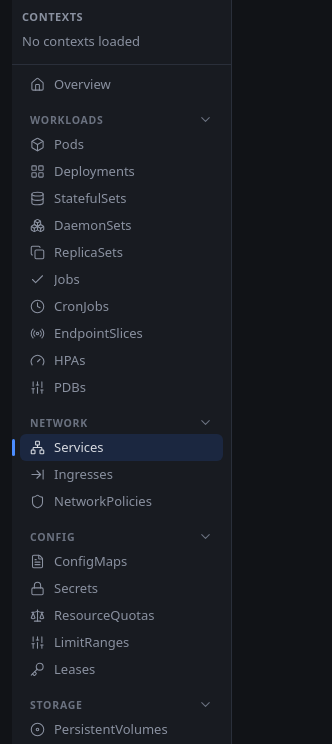
Test: Sidebar group collapse › a revealed group collapsed while active, then expanded by the user, is persisted
Click the button "Network" at (122, 423), box [12,411,231,434]
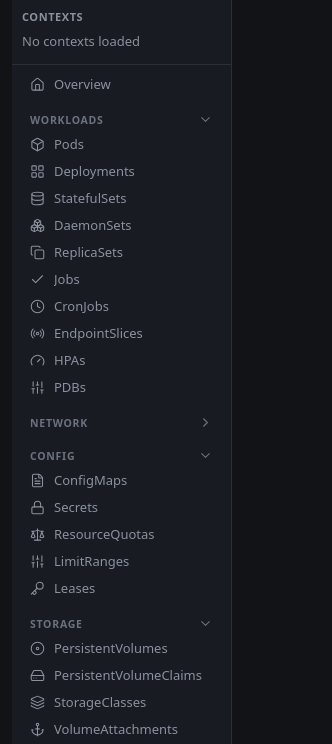
Click the button "Network" at (122, 423), box [12,411,231,434]
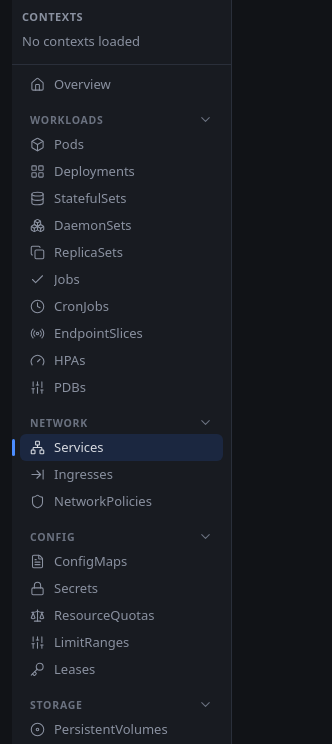
Result: the button "Network" is expanded at [12,411,231,434]
